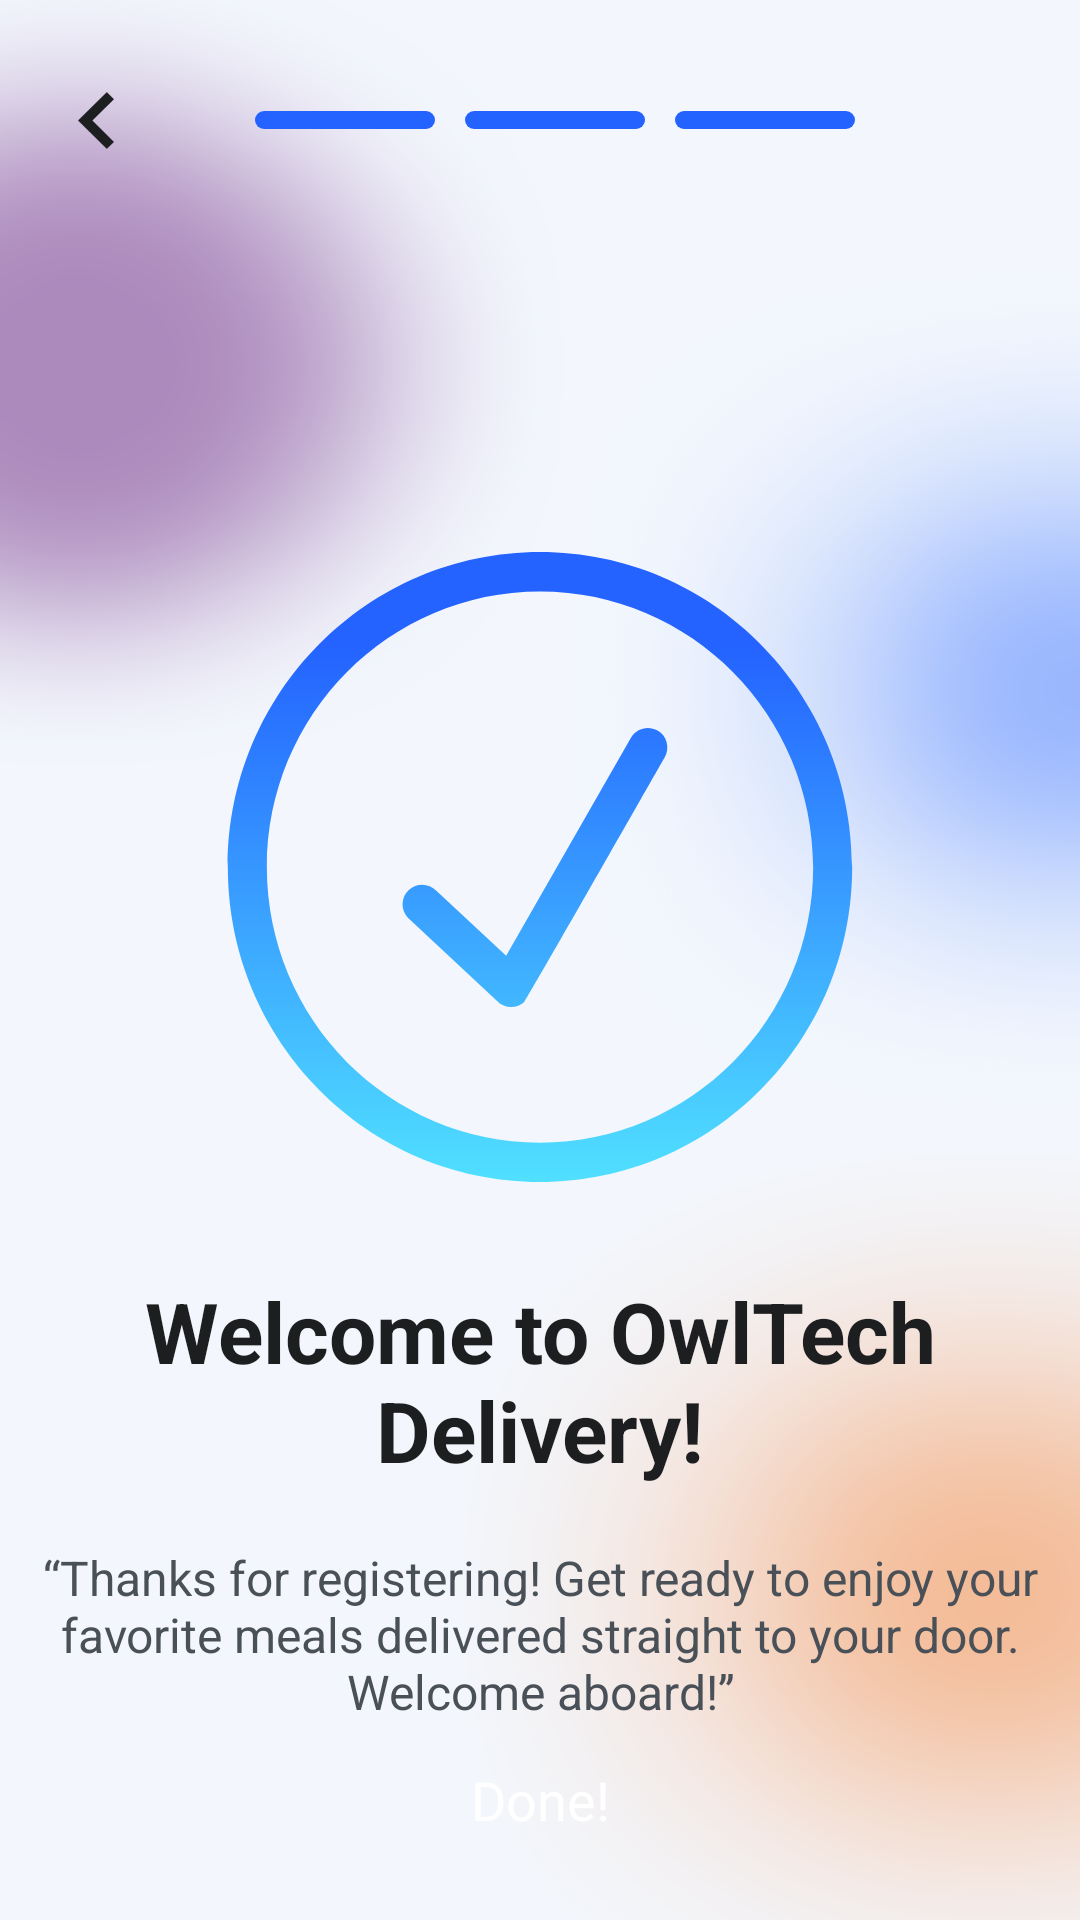

Icons on this 1080x1920 Android screen, each with its box as (x1, y1, x2, y2):
arrow back: (78, 92, 114, 149)
